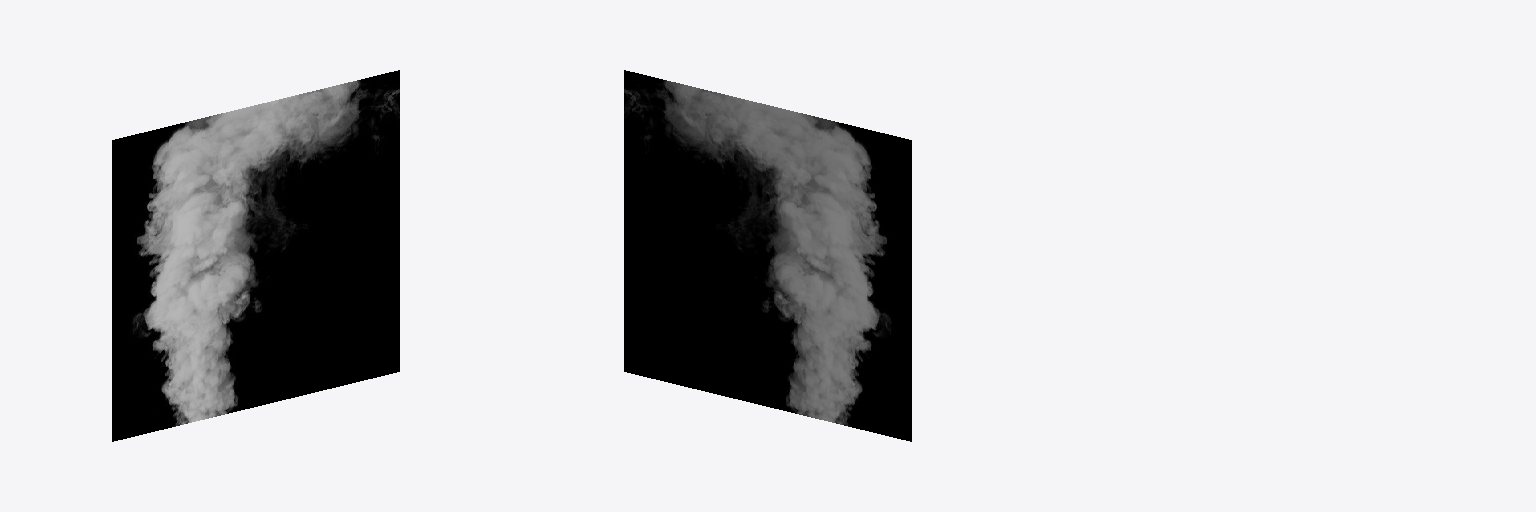
3 renders of one model, left to right at view 1: azimuth 30°, elevation 25°; view 2: azimuth 150°, elevation 25°; view 3: azimuth 270°, elevation 25°, orthographic.
Parts seen in each view (by area): view 1: humo; view 2: humo; view 3: none.
Part boxes in pixels (x1,y1,x2,y2): humo: (112, 70, 399, 441); humo: (624, 70, 911, 441).
Size of the model in its own units: 3.5 by 3.5 by 0.
Materials: 1 (1 with a texture image).